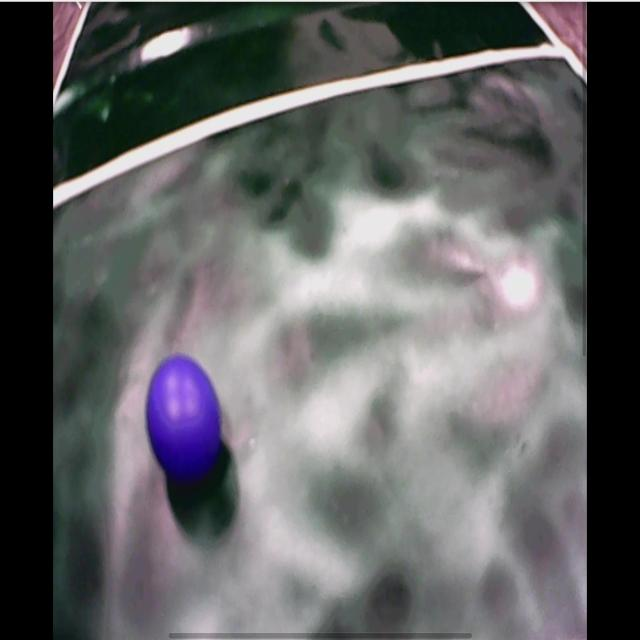ball: (147, 354, 221, 480)
